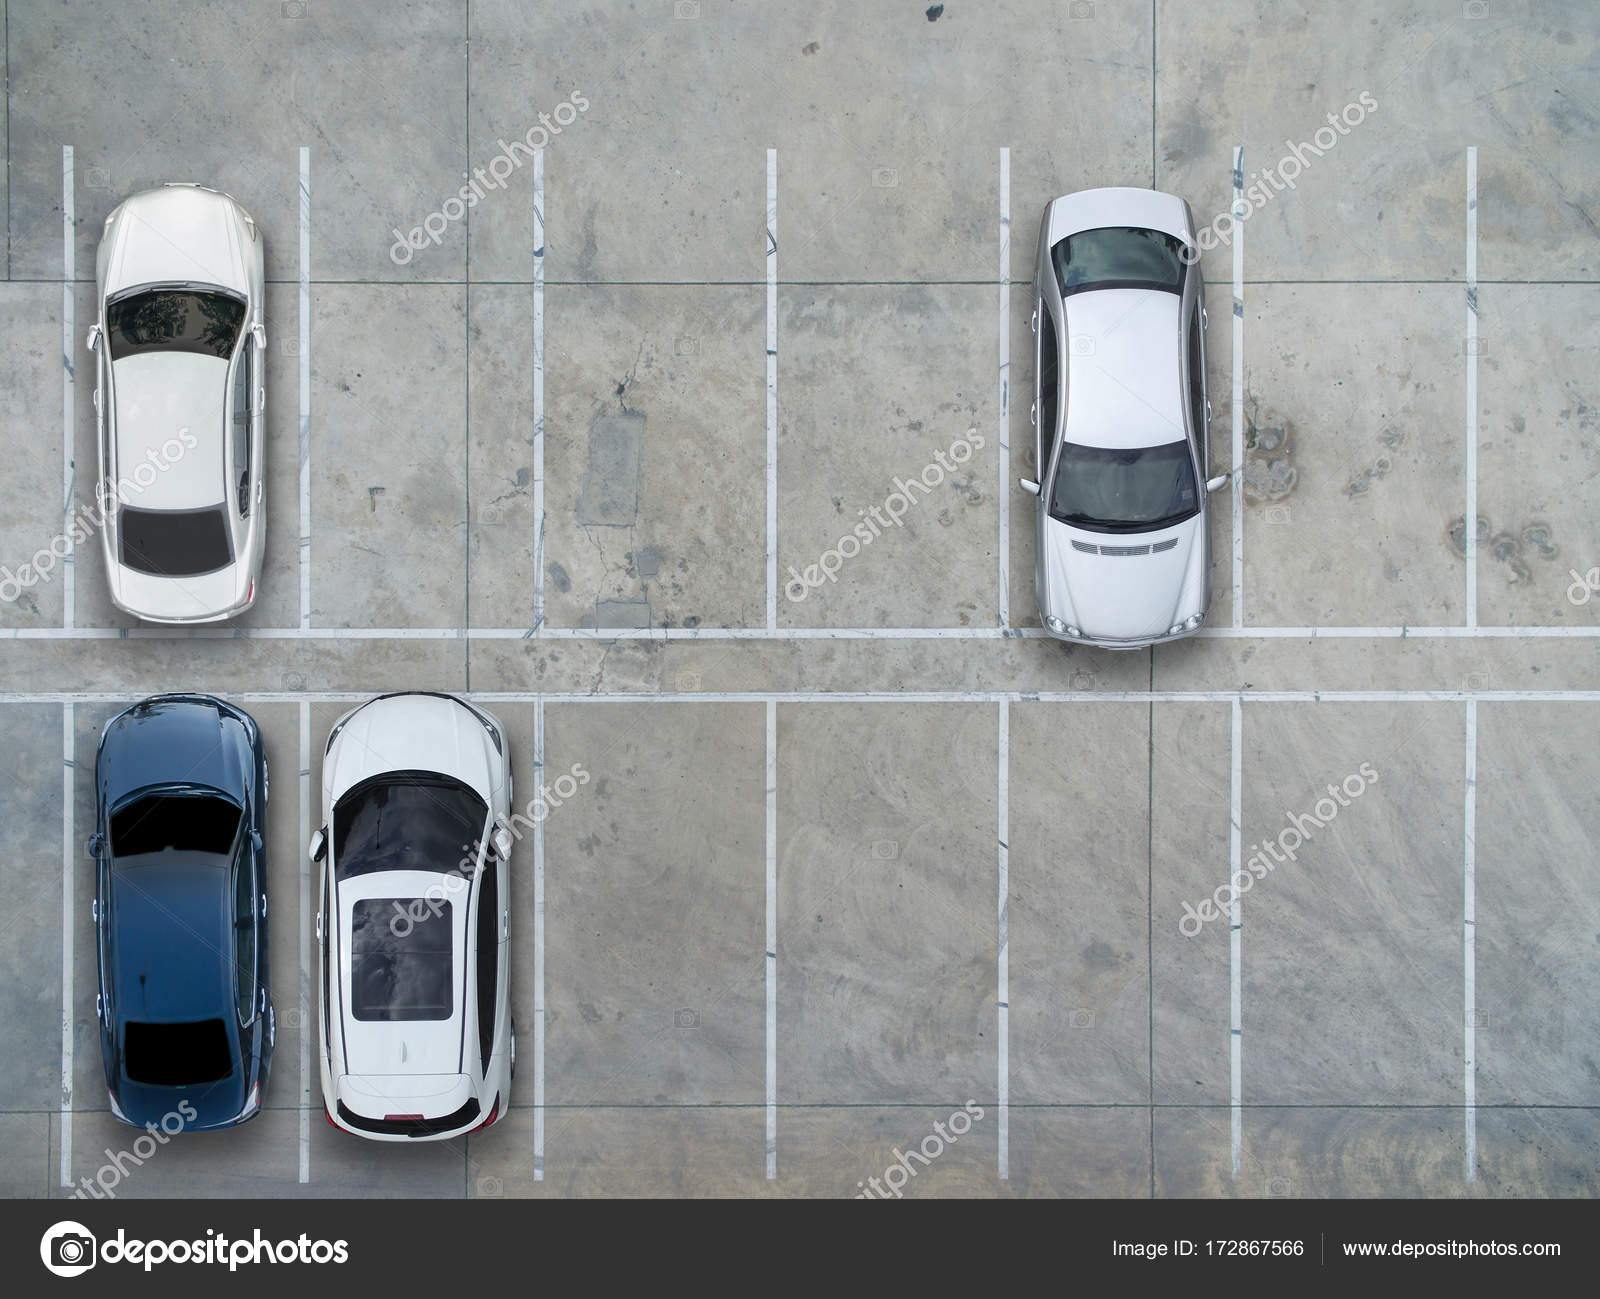Car: (313, 687, 510, 1155), (1025, 183, 1220, 649), (91, 171, 270, 630), (101, 693, 272, 1131)
LaneMark: (1, 622, 1019, 644), (1450, 697, 1487, 1188), (752, 141, 786, 634), (480, 691, 1599, 705), (1454, 137, 1487, 622), (1221, 693, 1250, 1188), (988, 693, 1017, 1185), (992, 141, 1019, 630), (56, 137, 82, 632), (756, 693, 782, 1185), (292, 142, 317, 628), (1228, 141, 1250, 630), (54, 706, 76, 1181), (528, 699, 546, 1165), (1213, 622, 1595, 642), (529, 130, 543, 634), (297, 695, 312, 1174), (7, 691, 137, 709)
